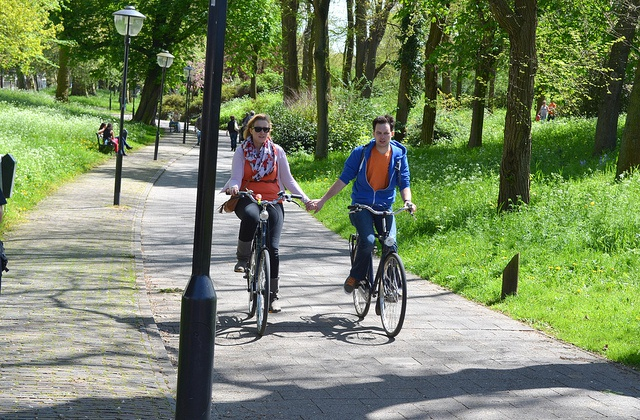non-vehicle: (223, 188, 303, 337), (350, 203, 407, 336)
